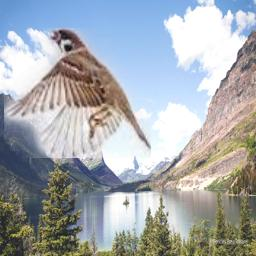Sparrow: (4, 28, 151, 158)
